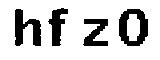0: (116, 4, 151, 49)
f: (47, 6, 70, 51)
h: (9, 4, 43, 51)
z: (80, 17, 110, 50)
